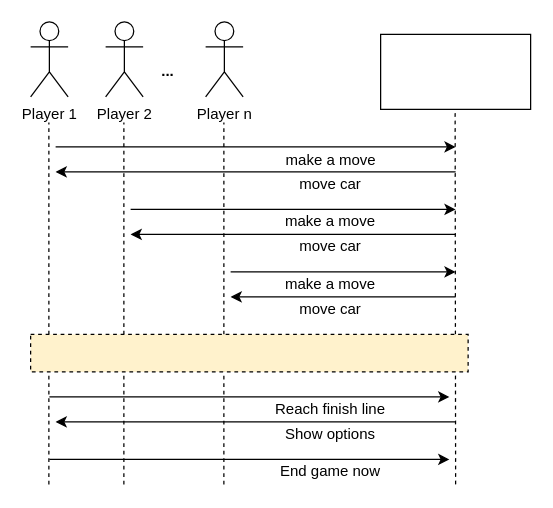
Some shapes in this 553 by 508 pixel diagram are drawn without their labels. Each missing label, with the centre of its shape:
Game: pixel 455 71
Repeat: pixel 248 352
